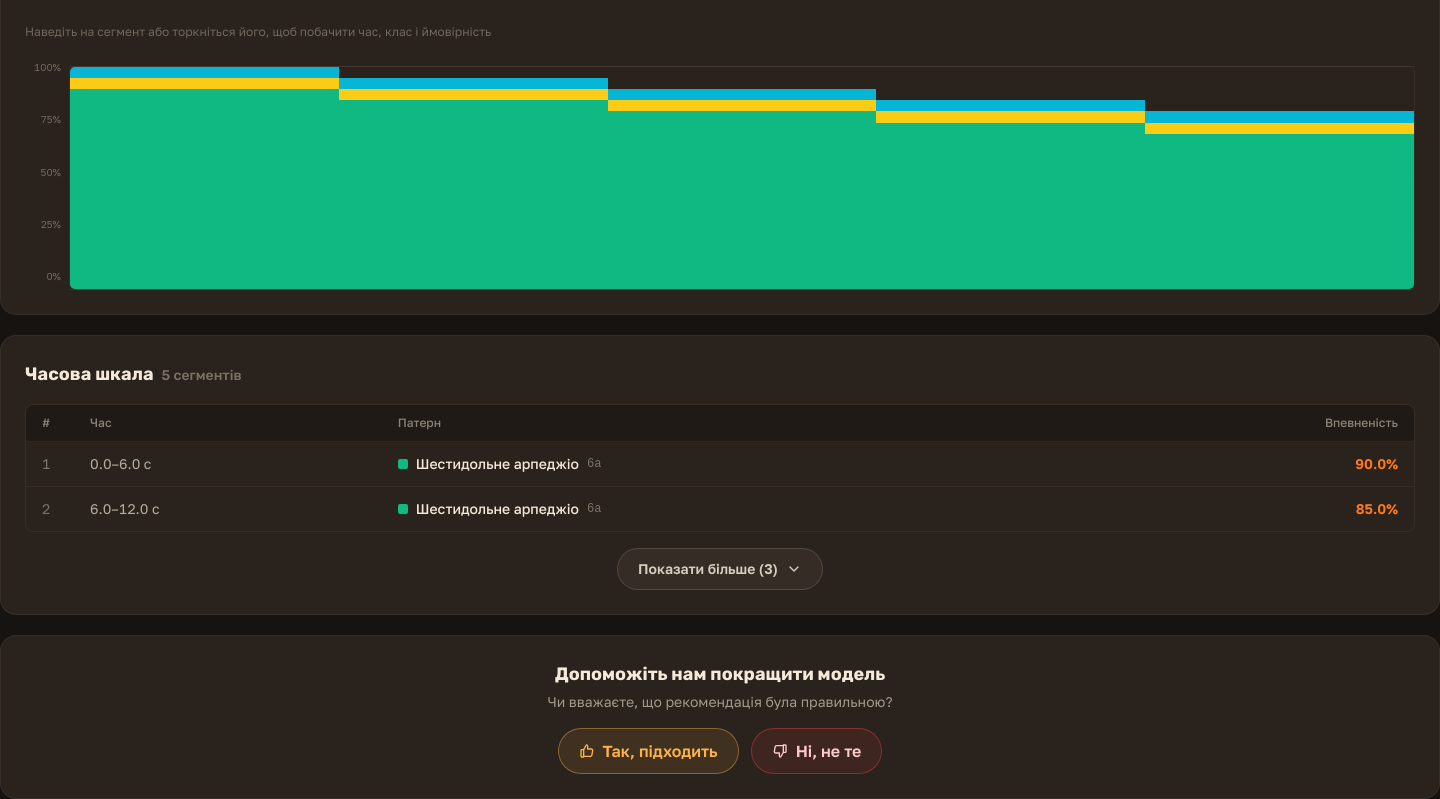
Test: FeedbackPanel › submits 'bad' feedback
The image size is (1440, 799).
(page scrolled)
What coordinates should you click on to do the following:
click the button "Ні, не те"
I would click on:
 (816, 751)
Its box is [751, 728, 882, 774].
(page scrolled)
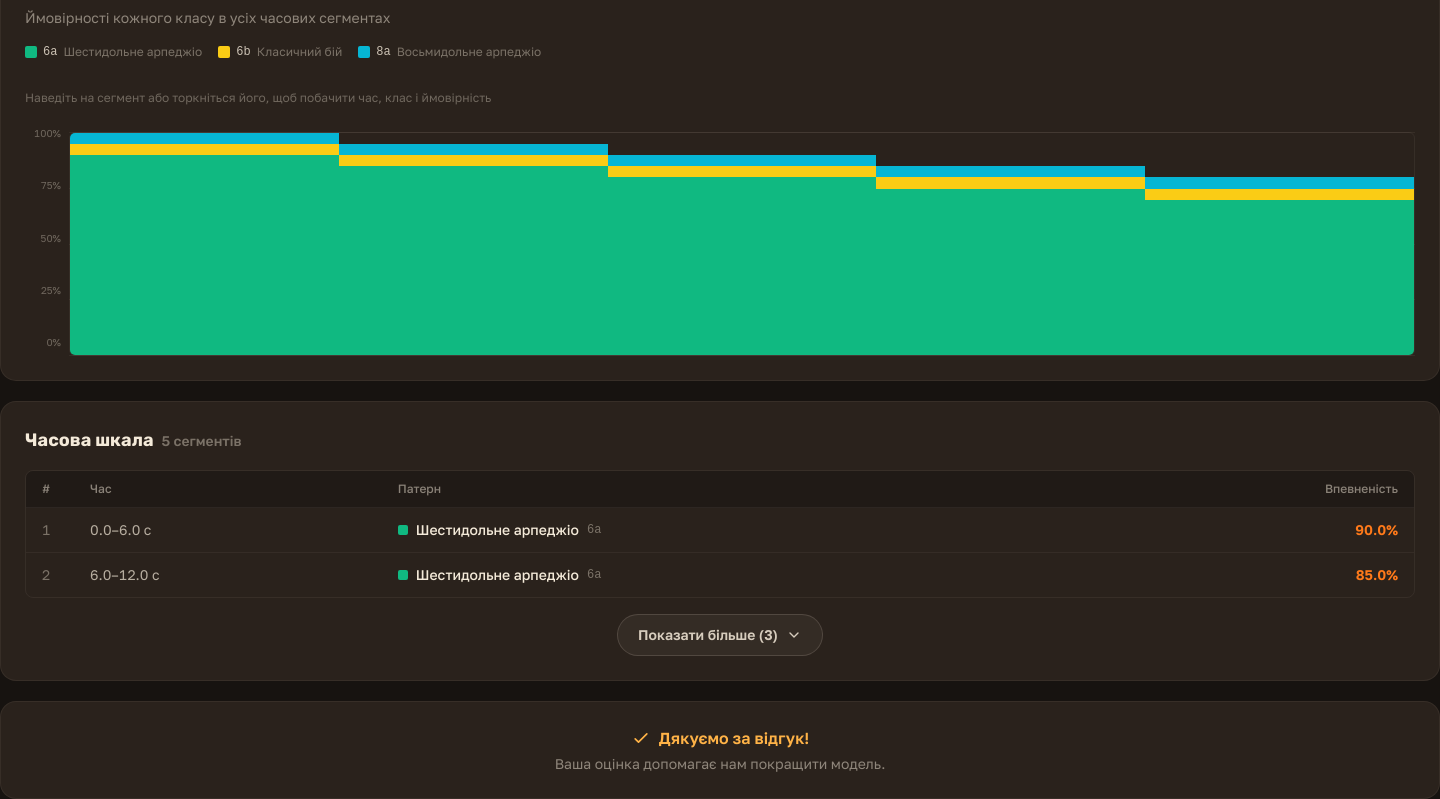
Check: the text "Дякуємо за відгук!" is shown, box [631, 728, 809, 748]
